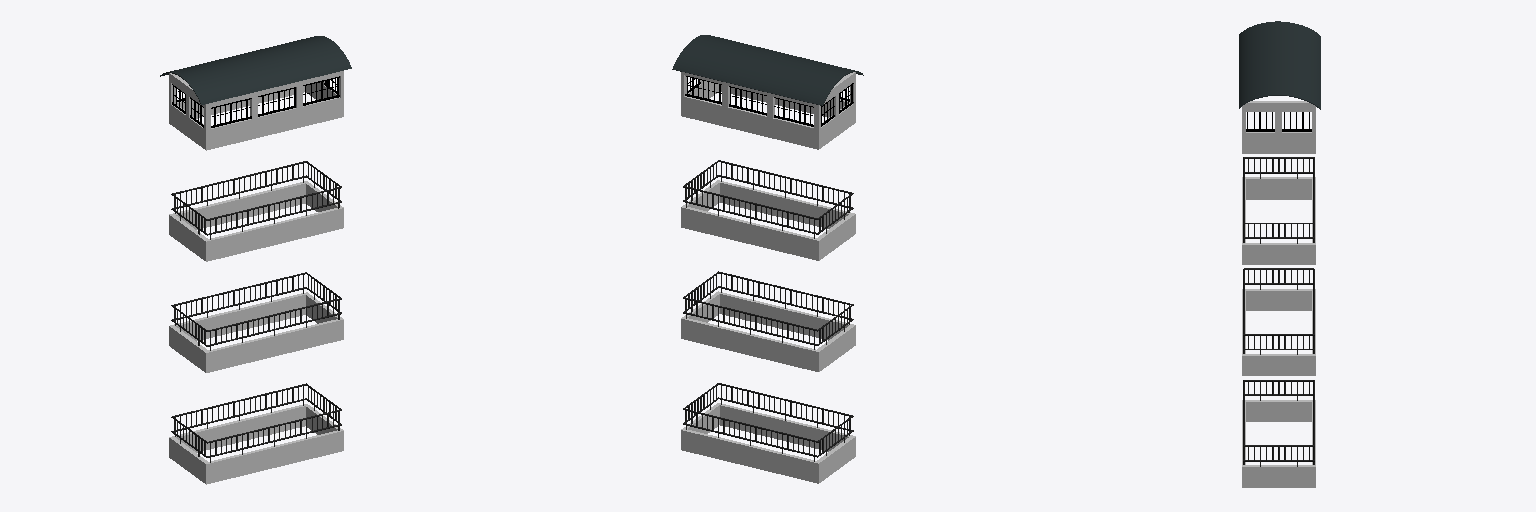
File: balcon_1.obj
3 views of the same model, side by side, from view 1: azimuth 30°, elevation 25°; view 2: azimuth 150°, elevation 25°; view 3: azimuth 270°, elevation 25° (orthographic).
Visible parts, largest first — view 1: TRAGALUZ_CUADRADOS_Plane.000; view 2: TRAGALUZ_CUADRADOS_Plane.000; view 3: TRAGALUZ_CUADRADOS_Plane.000.
Part boxes in pixels (x1,y1,x2,y2): TRAGALUZ_CUADRADOS_Plane.000: (160,36,351,484); TRAGALUZ_CUADRADOS_Plane.000: (672,35,863,483); TRAGALUZ_CUADRADOS_Plane.000: (1239,21,1320,487).
Bounding box in the file's own units: 7.78 × 19.54 × 3.69.